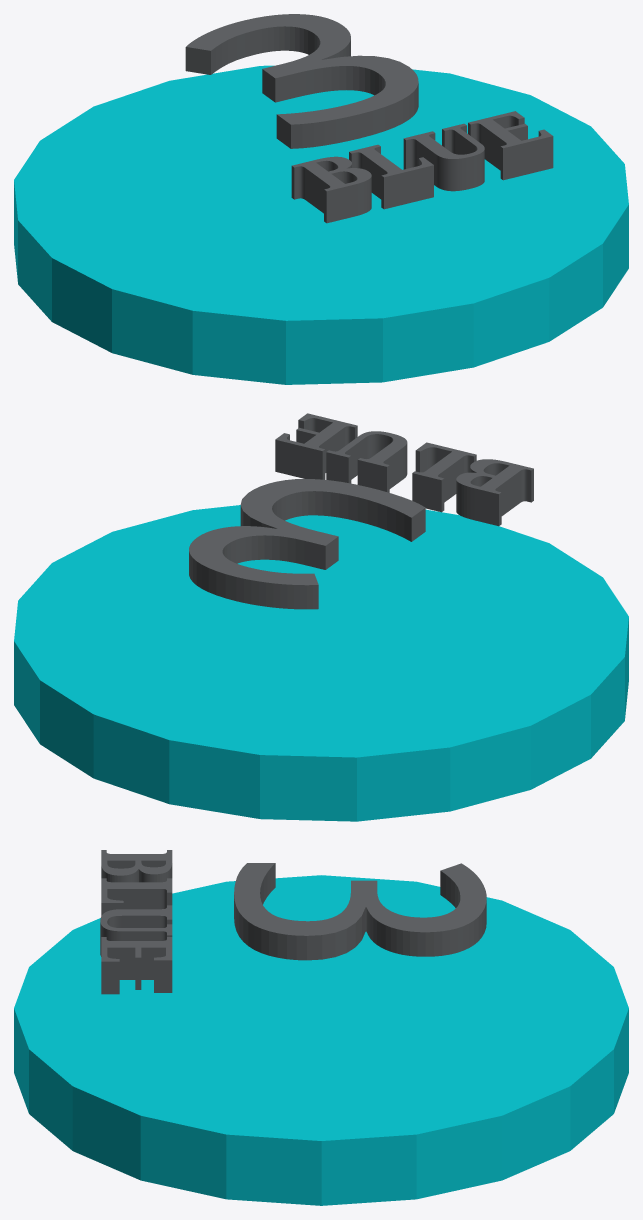
The model's file is 3blue.gltf.
The picture shows the model from 3 angles, top to bottom: view 1: azimuth 30°, elevation 25°; view 2: azimuth 150°, elevation 25°; view 3: azimuth 270°, elevation 25°; orthographic projection.
Parts seen in each view (by area): view 1: Mesh_Mesh_head_geo001_lambert2SG001; view 2: Mesh_Mesh_head_geo001_lambert2SG001; view 3: Mesh_Mesh_head_geo001_lambert2SG001.
Part boxes in pixels (x1=…): Mesh_Mesh_head_geo001_lambert2SG001: x1=14, y1=14, x2=628, y2=384; Mesh_Mesh_head_geo001_lambert2SG001: x1=14, y1=413, x2=628, y2=821; Mesh_Mesh_head_geo001_lambert2SG001: x1=14, y1=850, x2=628, y2=1205.
Bounding box in the file's own units: 176 × 54.56 × 172.
